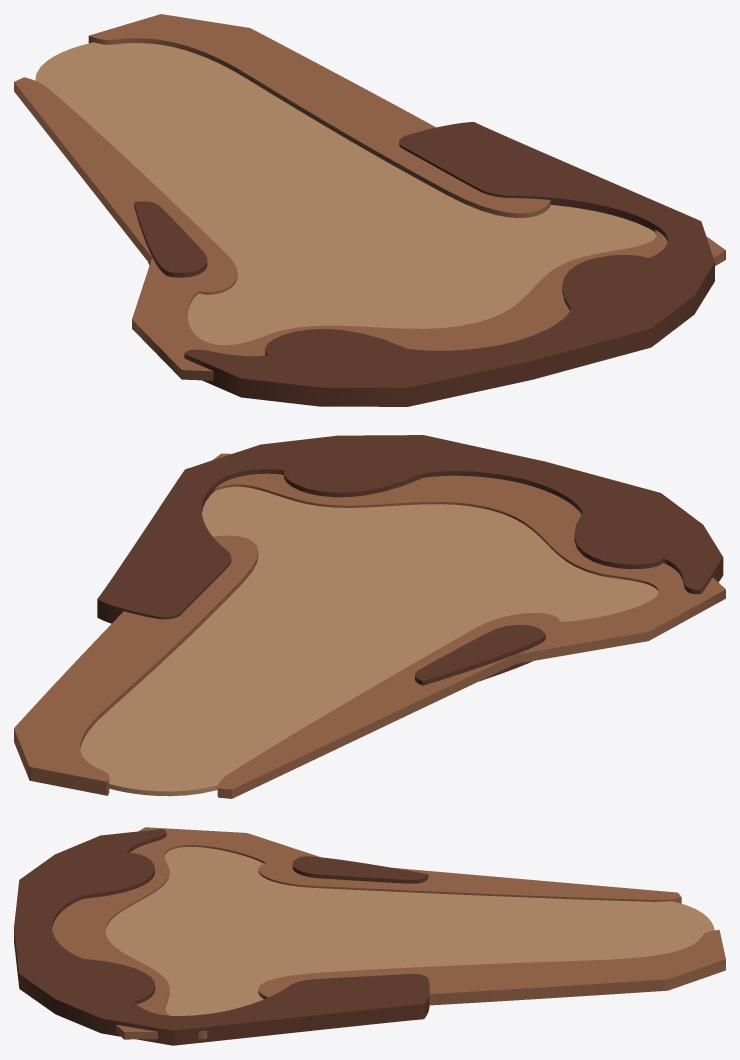
The model's file is emoji_u1f443_1f3fd.glb.
3 views of the same model, one above another, from view 1: azimuth 30°, elevation 25°; view 2: azimuth 150°, elevation 25°; view 3: azimuth 270°, elevation 25° (orthographic). The views are drawn at different scales.
Parts seen in each view (by area): view 1: emoji_u1f443_1f3fd; view 2: emoji_u1f443_1f3fd; view 3: emoji_u1f443_1f3fd.
Boxes of the visible parts, <box> form: emoji_u1f443_1f3fd: <box>14,14,725,406</box>; emoji_u1f443_1f3fd: <box>14,435,725,798</box>; emoji_u1f443_1f3fd: <box>14,827,725,1045</box>.
Size of the model in its own units: 0.0236 by 0.0008 by 0.0343.
